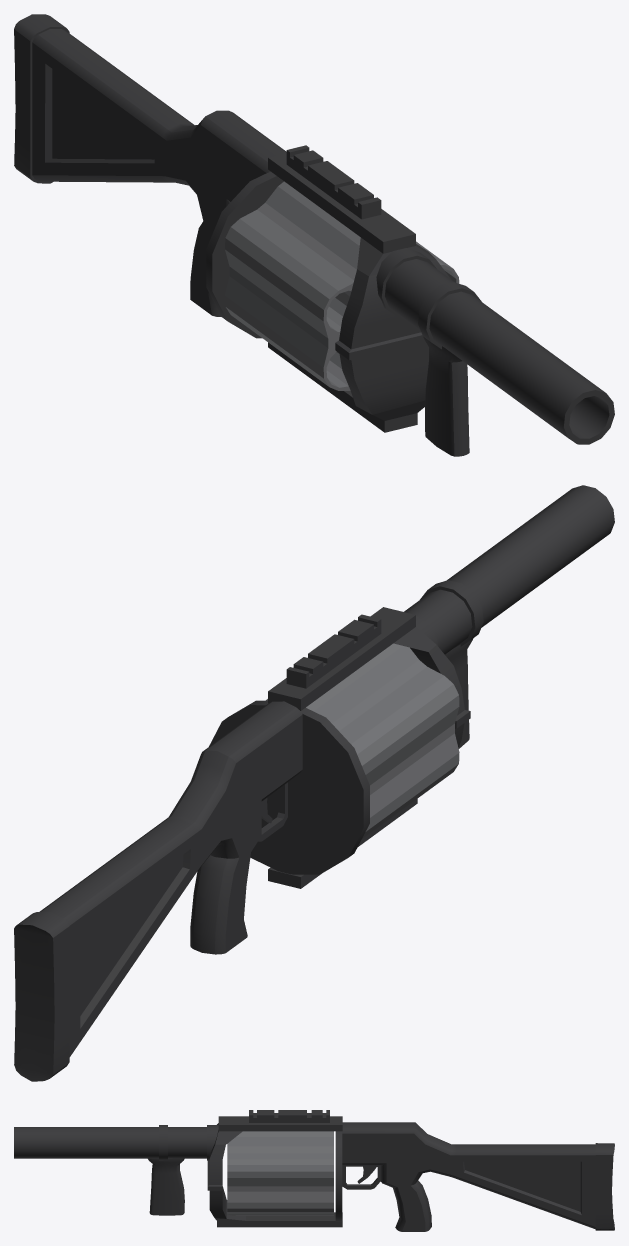
Rendered from Grenade Launcher.fbx.
The picture shows the model from 3 angles, top to bottom: view 1: azimuth 30°, elevation 25°; view 2: azimuth 150°, elevation 25°; view 3: azimuth 270°, elevation 25°; orthographic projection. The views are drawn at different scales.
Parts seen in each view (by area): view 1: Grenade_Launcher_Base, pCylinder11, pCylinder12; view 2: Grenade_Launcher_Base, pCylinder11, pCylinder12; view 3: Grenade_Launcher_Base, pCylinder11, pCylinder12, pCube42.
Boxes of the visible parts, left/top/right/bottom form: Grenade_Launcher_Base: left=14, top=14, right=614, bottom=456; pCylinder11: left=225, top=181, right=459, bottom=390; pCylinder12: left=206, top=171, right=283, bottom=338; Grenade_Launcher_Base: left=14, top=485, right=614, bottom=1081; pCylinder11: left=266, top=643, right=459, bottom=838; pCylinder12: left=209, top=700, right=369, bottom=874; Grenade_Launcher_Base: left=14, top=1110, right=614, bottom=1231; pCylinder11: left=227, top=1131, right=333, bottom=1215; pCylinder12: left=335, top=1131, right=342, bottom=1221; pCube42: left=342, top=1165, right=380, bottom=1189.
Bounding box in the file's own units: 21 × 27.6 × 129.
